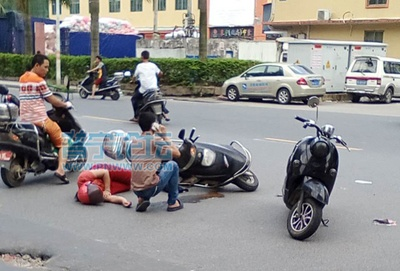falling: (70, 162, 134, 212)
